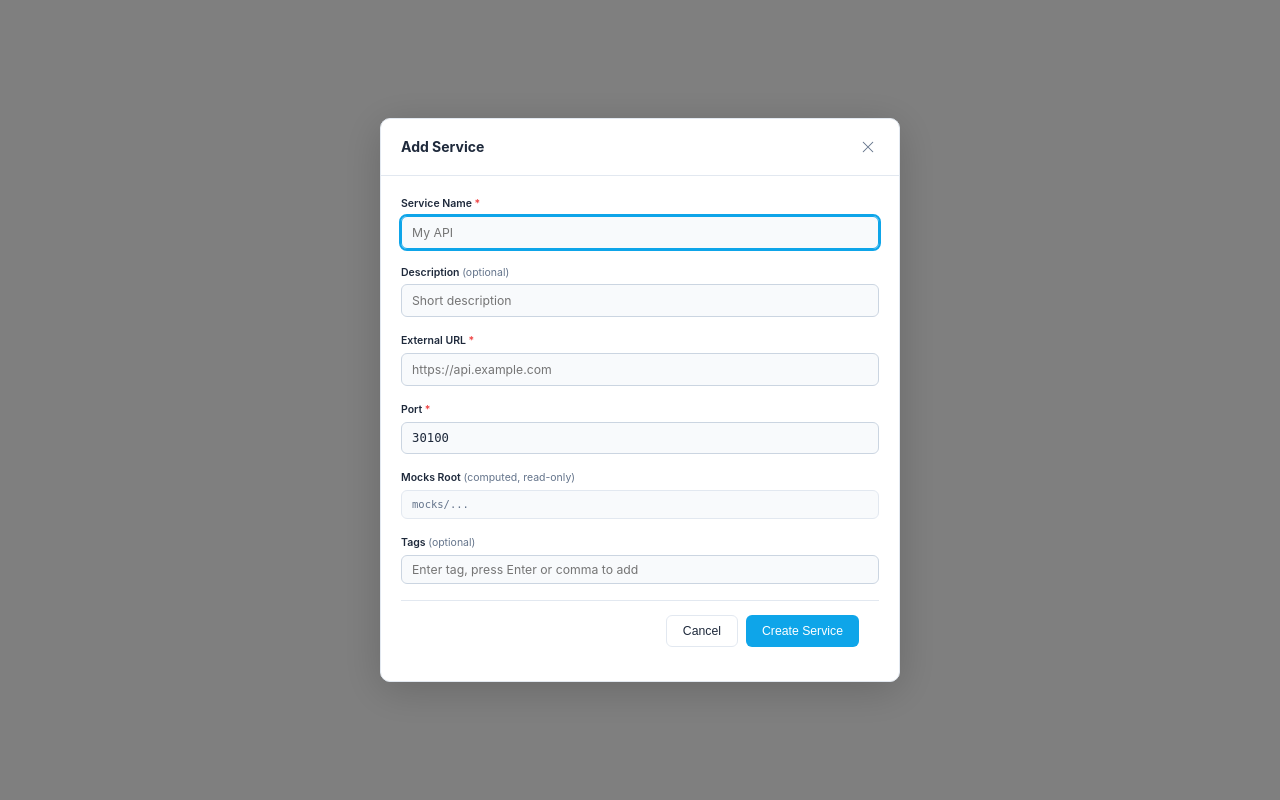
Test case: AddEditServiceModal — AC-5, AC-8: form validation and slug-change warning › shows readonly mocks-root path preview (AC-5)
Type "Test Service" into the field with test id "input-service-name".
click(640, 232); type("Test Service")  # box 401,216 -> 879,249
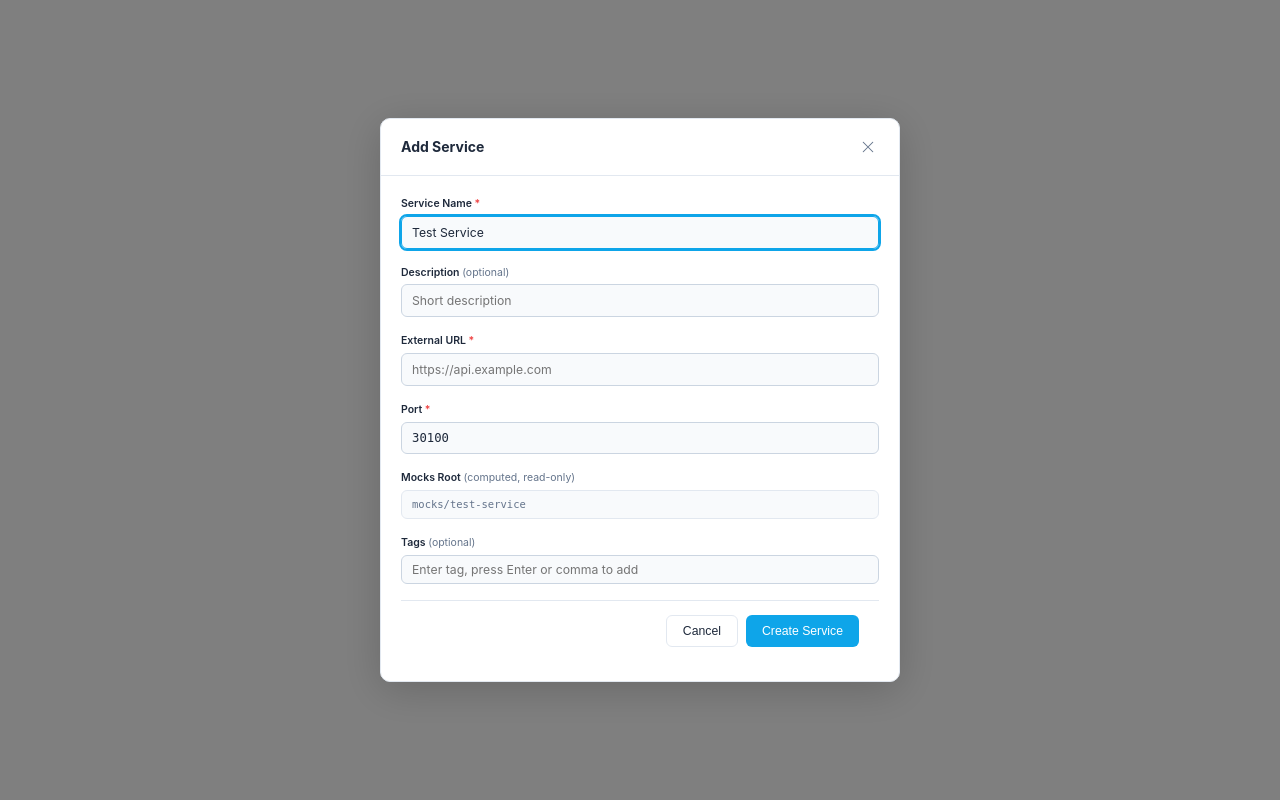
Expected: the text with test id "readonly-mocks-root" reads "mocks/test-service", 412,498 -> 526,510
